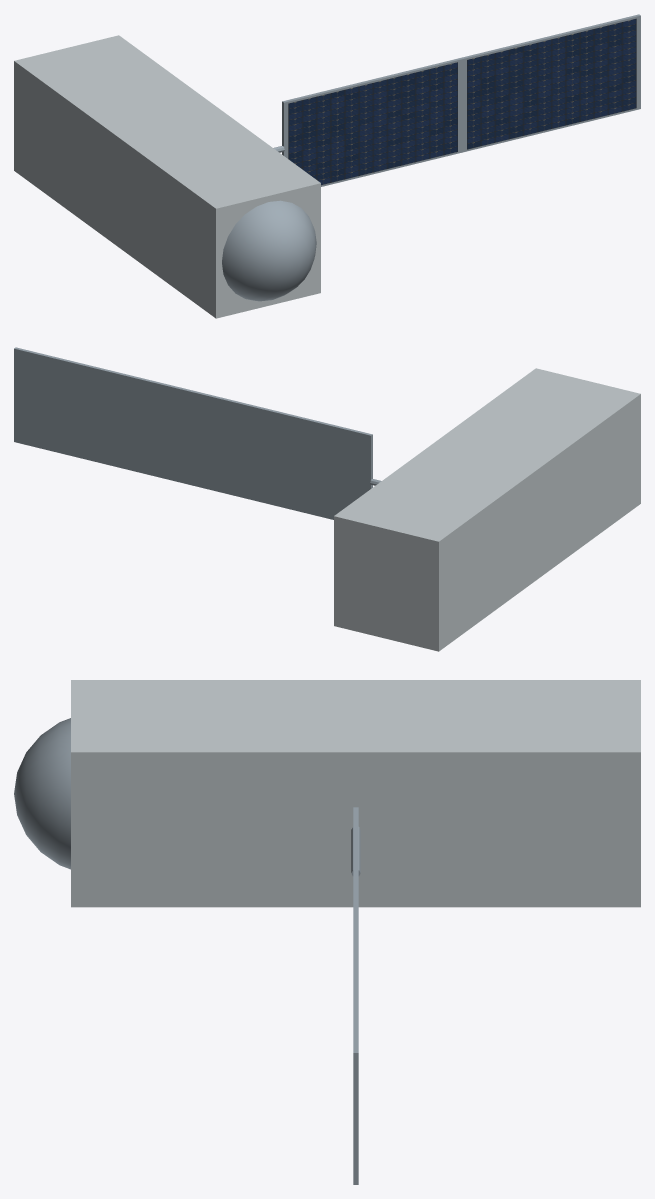
The model's file is ref-gecam-47234.glb.
3 renders of one model, top to bottom at view 1: azimuth 30°, elevation 25°; view 2: azimuth 150°, elevation 25°; view 3: azimuth 270°, elevation 25°, orthographic. The views are drawn at different scales.
Parts seen in each view (by area): view 1: Spacecraft body, Photovoltaic laminates (×2), Dome, Array frame (×2); view 2: Spacecraft body, Array frame (×2); view 3: Spacecraft body, Dome, Array frame (×2).
Boxes of the visible parts, x1,y1,x2,y2 form: Spacecraft body: (14,35,320,318); Photovoltaic laminates (×2): (288,18,636,185); Dome: (222,200,316,301); Array frame (×2): (282,14,640,186); Spacecraft body: (334,368,640,651); Array frame (×2): (14,347,372,519); Spacecraft body: (71,680,640,907); Dome: (14,718,70,869); Array frame (×2): (353,807,358,1184).
Size of the model in its own units: 1.5 by 0.3 by 1.1.
Materials: 3 (1 with a texture image).
